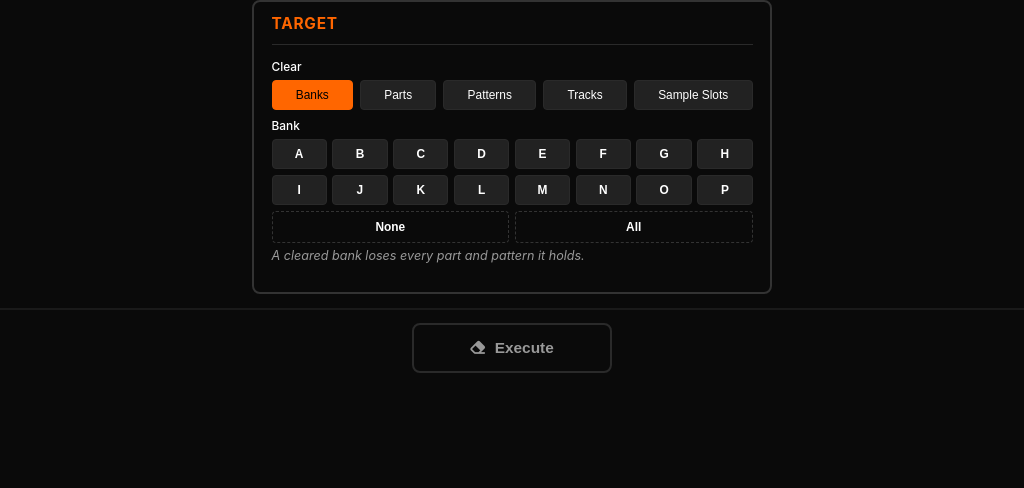
Test: ClearProjectPanel - sample slot widget › Range brings the second handle back
Step 1. Click the button "Sample Slots" → (693, 95), box [634,80,752,110]
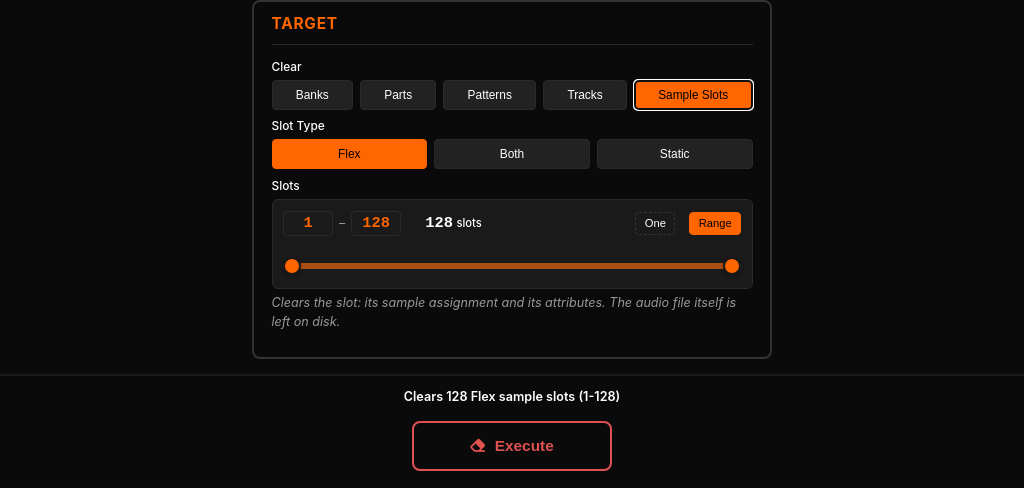
Step 2. Click the button "One" → (655, 223), box [635,212,675,235]
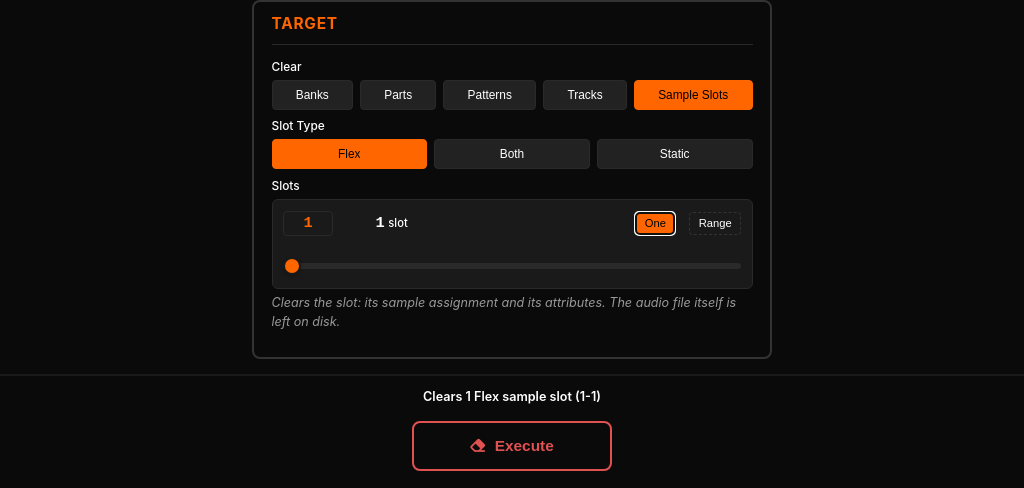
Step 3. Click the button "Range" → (715, 223), box [689,212,741,235]
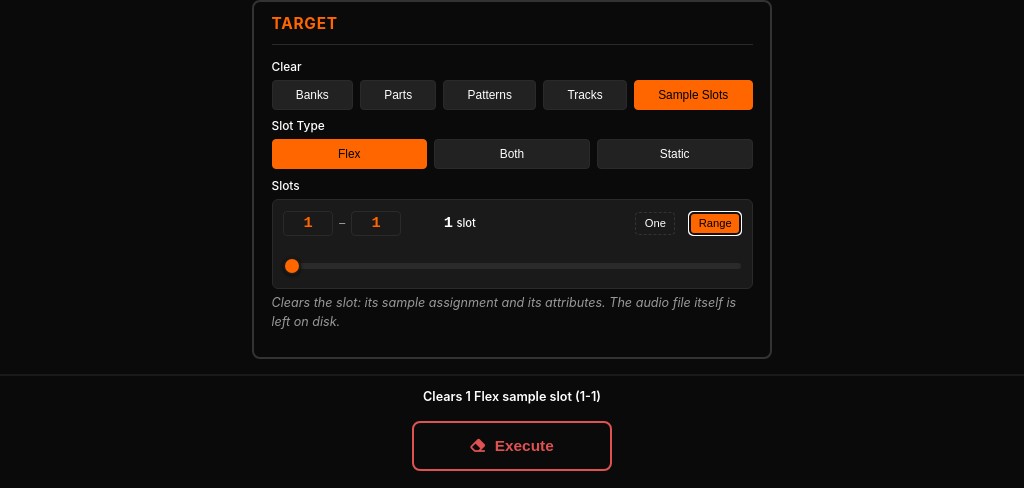
Check: the field named "Last slot to clear" is shown, box [351,211,401,236]
